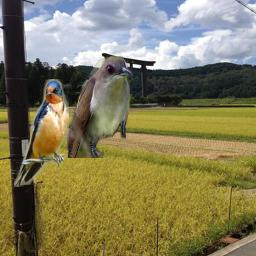Cuckoo: (67, 56, 133, 158)
Swallow: (14, 79, 69, 187)
